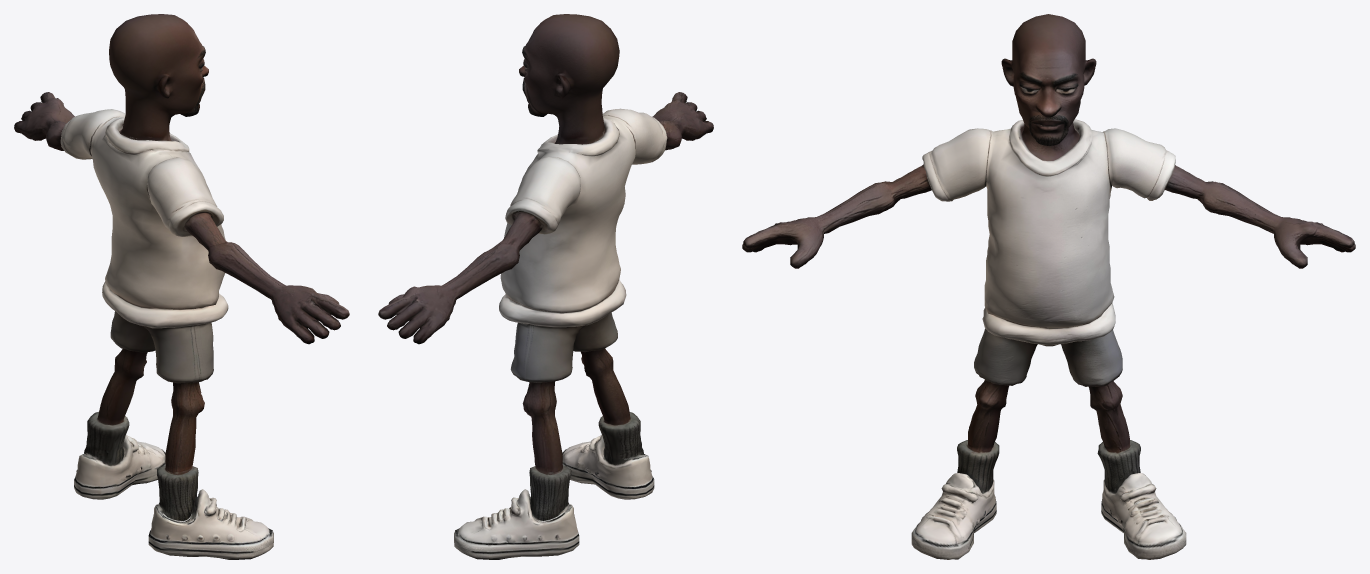
3 views of the same model, side by side, from view 1: azimuth 30°, elevation 25°; view 2: azimuth 150°, elevation 25°; view 3: azimuth 270°, elevation 25° (orthographic).
Parts seen in each view (by area): view 1: tripo_node_4a371158; view 2: tripo_node_4a371158; view 3: tripo_node_4a371158.
Part boxes in pixels (bbox=[...]): tripo_node_4a371158: bbox=[14, 14, 349, 559]; tripo_node_4a371158: bbox=[378, 14, 713, 559]; tripo_node_4a371158: bbox=[742, 14, 1355, 559].
Bounding box in the file's own units: 0.2035 × 0.9159 × 1.
Materials: 1 (1 with a texture image).
